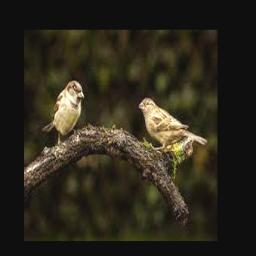Sparrow: (139, 96, 207, 149), (42, 80, 85, 146)
